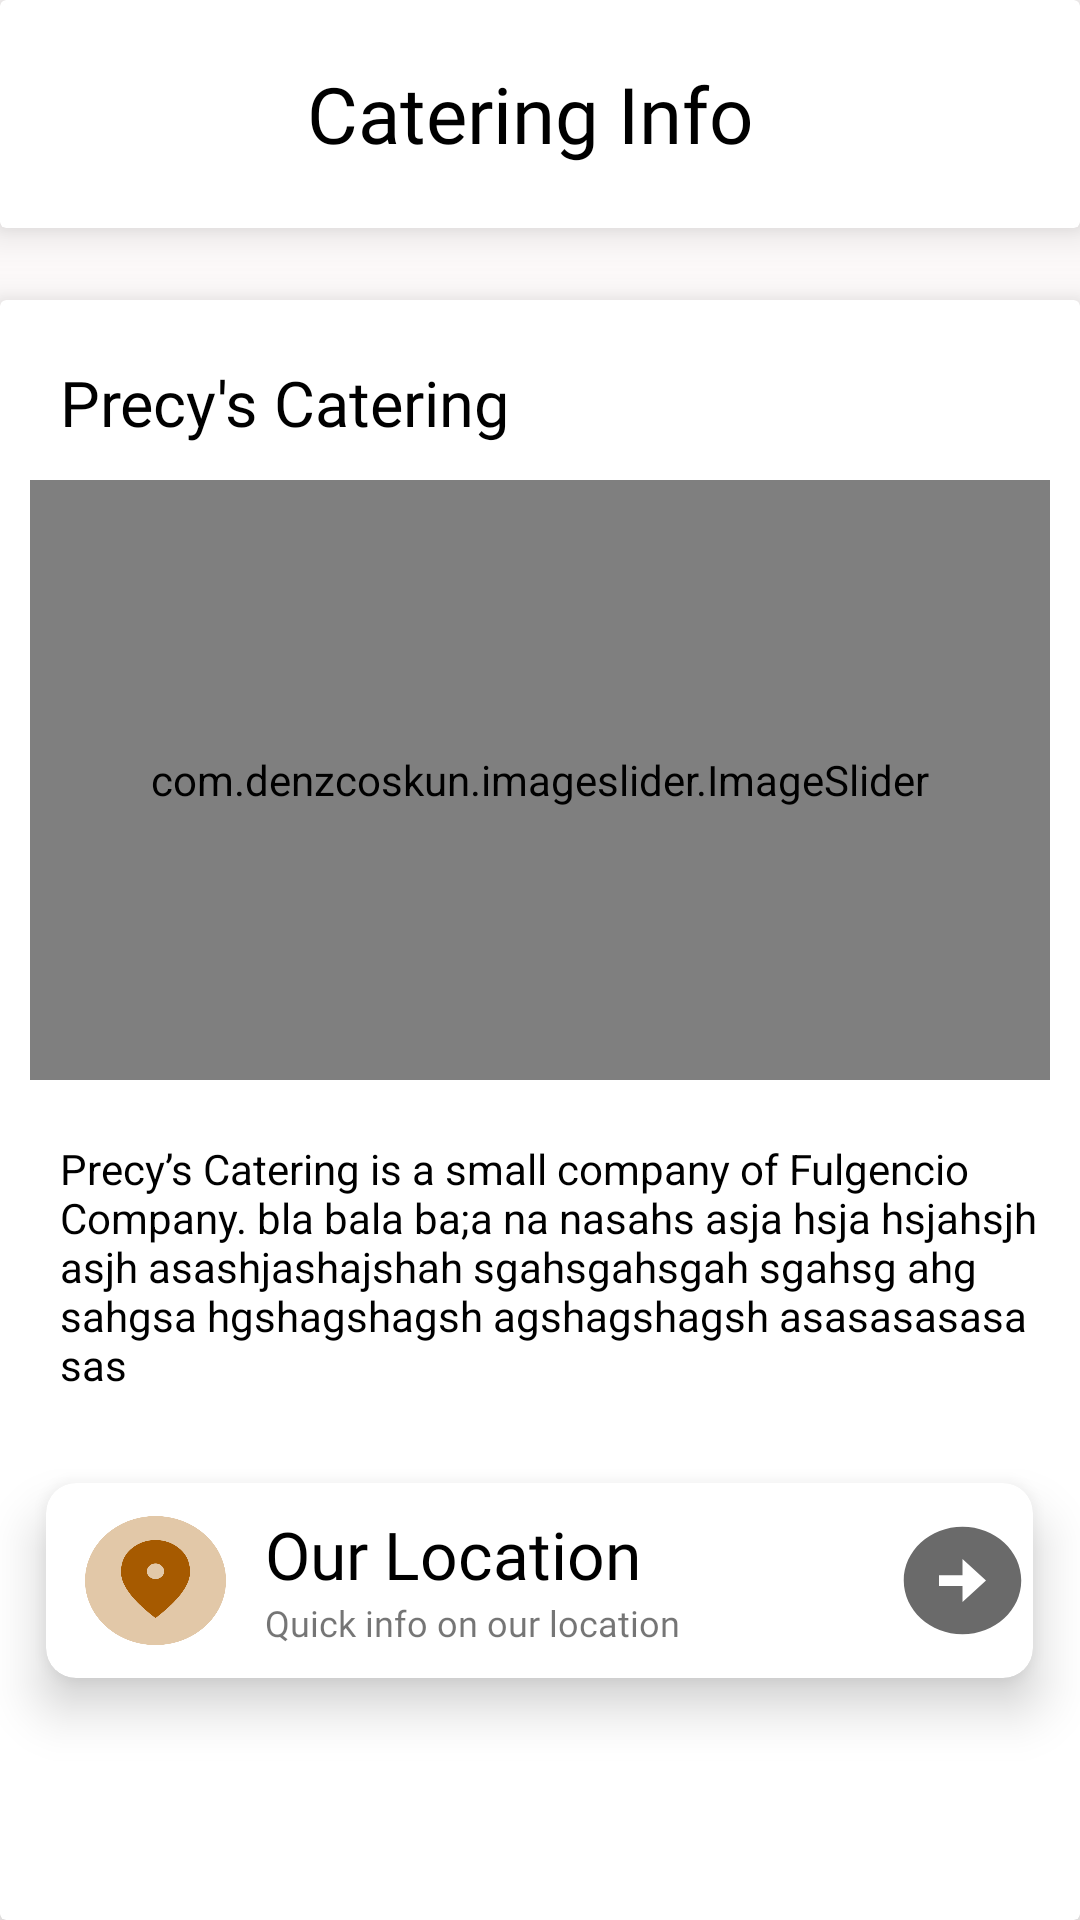

Icons on this 1080*1920 Android screen, each with the point to tap as (x,y):
locationicon: (155,1580)
